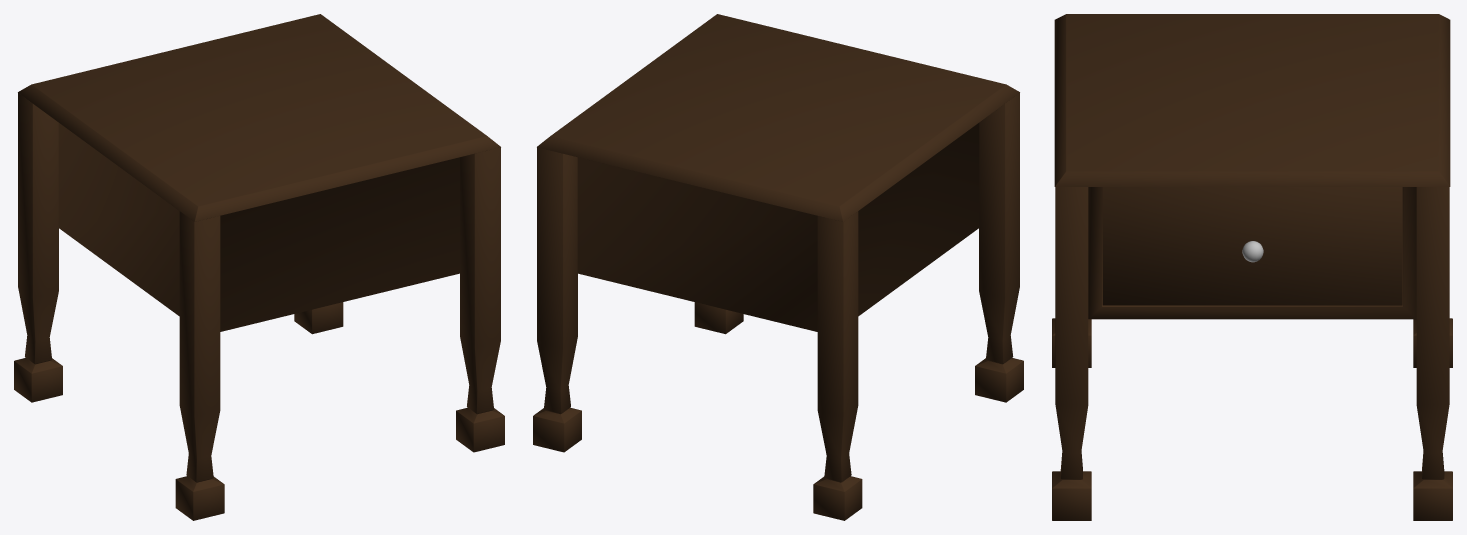
File: end table.fbx
3 views of the same model, side by side, from view 1: azimuth 30°, elevation 25°; view 2: azimuth 150°, elevation 25°; view 3: azimuth 270°, elevation 25° (orthographic). The views are drawn at different scales.
Parts seen in each view (by area): view 1: Cube; view 2: Cube; view 3: Cube.
Part boxes in pixels (x1,y1,x2,y2): Cube: (14,14,504,520); Cube: (533,14,1023,520); Cube: (1052,14,1452,520).
Bounding box in the file's own units: 244 × 245 × 230.
